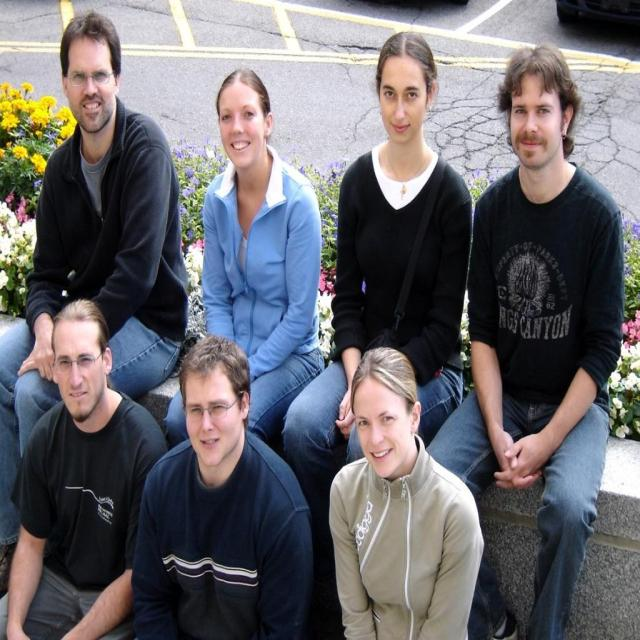Face: (178, 359, 246, 473), (217, 59, 282, 171), (508, 70, 564, 183), (61, 28, 116, 137), (356, 379, 416, 475), (59, 312, 111, 421), (385, 59, 424, 151)
